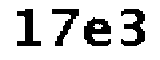1: (12, 3, 44, 53)
3: (118, 3, 150, 52)
7: (49, 3, 79, 51)
e: (83, 13, 113, 52)
